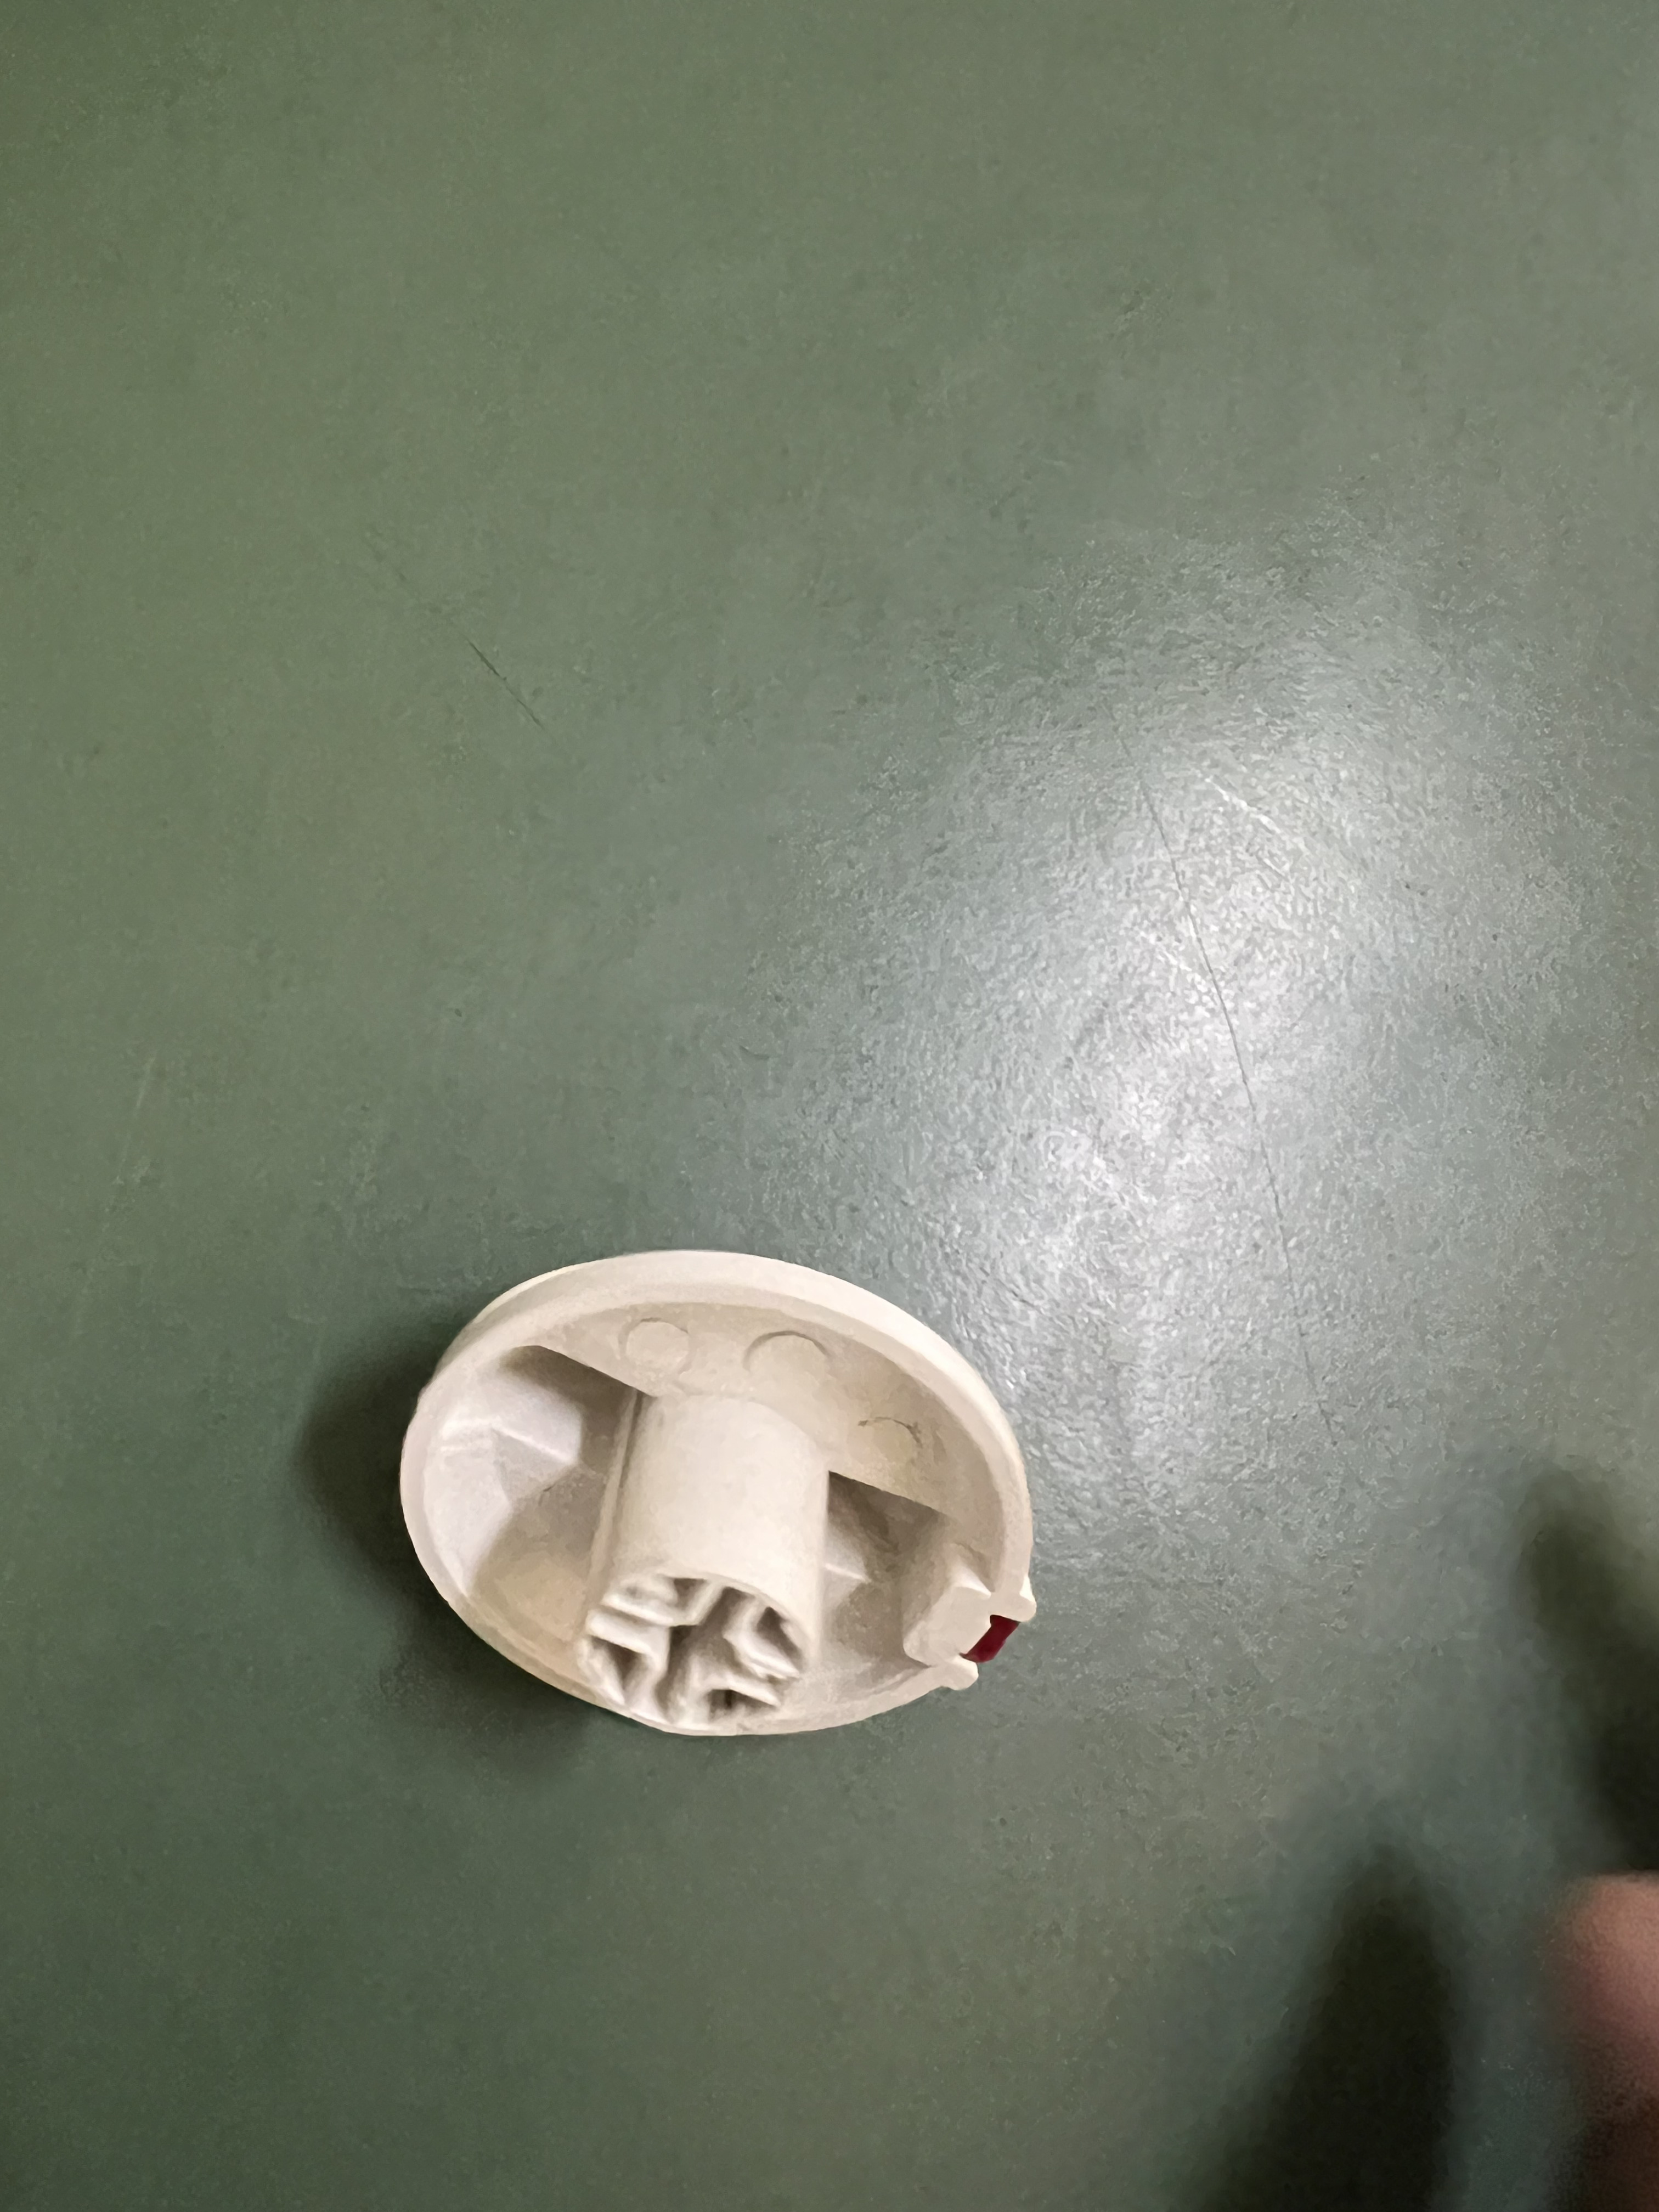regulator: (390, 1157, 1054, 1775)
